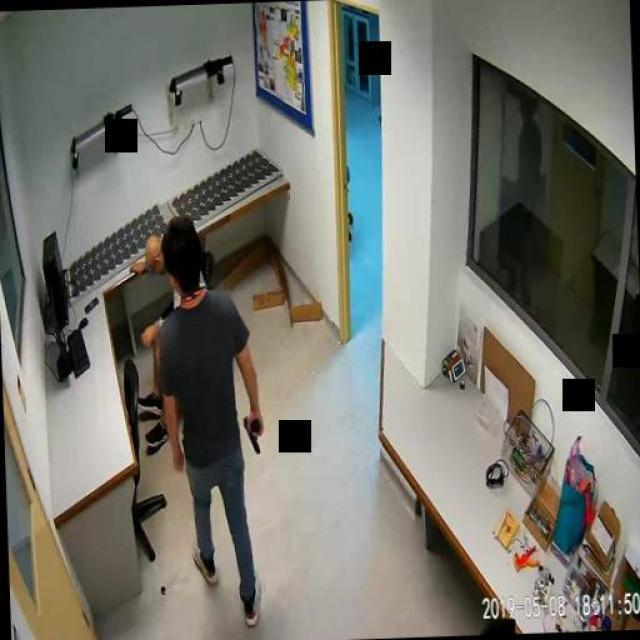gun: (242, 406, 262, 454)
